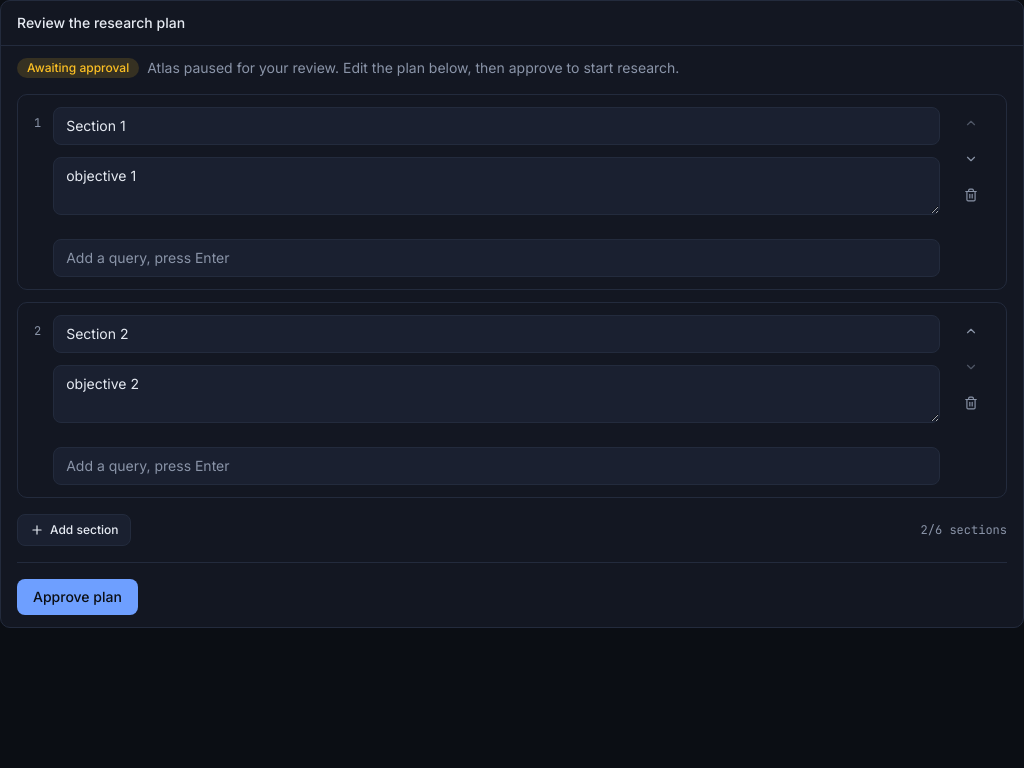
Test: PlanApprovalPanel › shows "already resumed" and refetches on 409
The width and height of the screenshot is (1024, 768).
Click the button "Approve plan" at (77, 597), box [17,579,138,615]
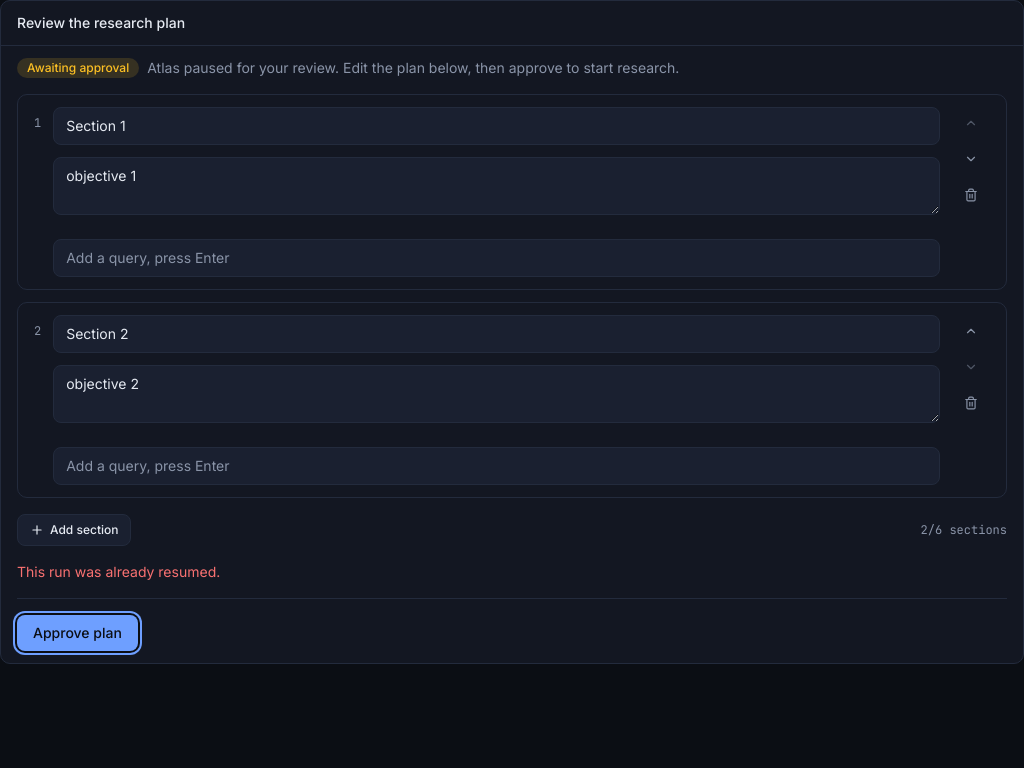
Check: the text "This run was already resumed." is shown, box [17,563,220,580]
